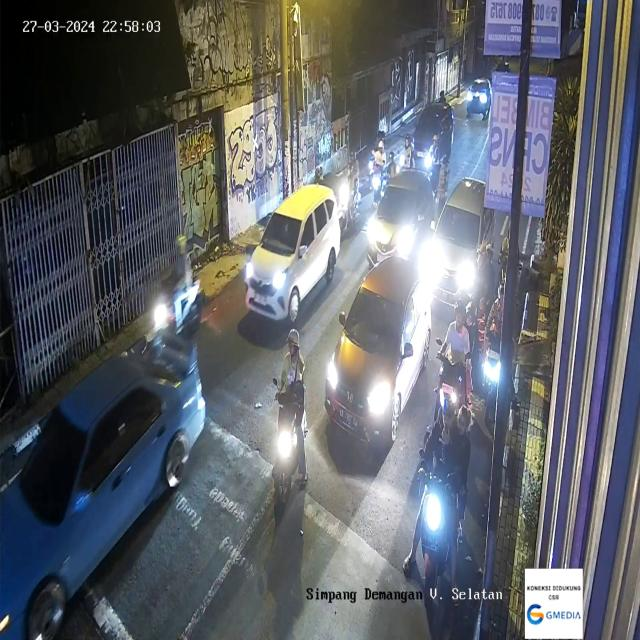car: (0, 336, 204, 640), (325, 259, 434, 451), (244, 185, 341, 322), (422, 182, 494, 317), (366, 176, 431, 263), (408, 102, 456, 168), (462, 76, 491, 132)
motorcycle: (418, 383, 468, 618), (275, 330, 311, 505), (483, 276, 523, 430), (154, 230, 203, 354), (438, 292, 480, 436), (374, 134, 389, 200), (427, 138, 442, 189)
